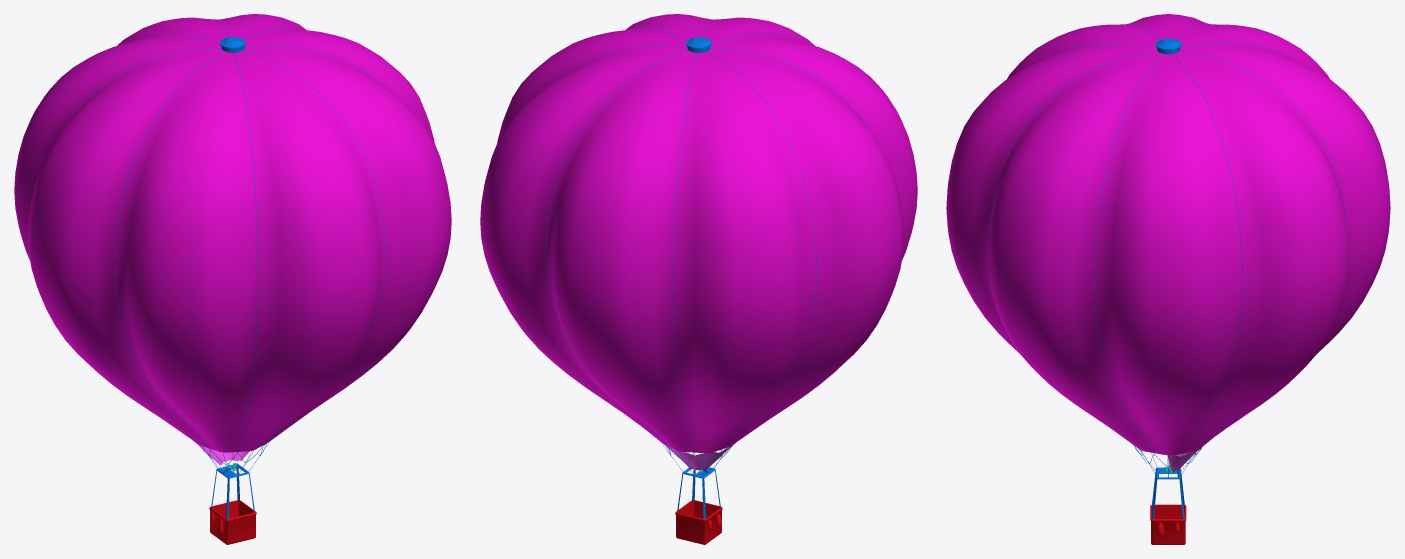
Rendered from planica-air-balloon-tall.fbx.
3 renders of one model, left to right at view 1: azimuth 30°, elevation 25°; view 2: azimuth 150°, elevation 25°; view 3: azimuth 270°, elevation 25°, orthographic.
Visible parts, largest first — view 1: hot_air_baloon_4; view 2: hot_air_baloon_4; view 3: hot_air_baloon_4.
Boxes of the visible parts, <box> form: hot_air_baloon_4: <box>14,14,451,544</box>; hot_air_baloon_4: <box>480,14,917,544</box>; hot_air_baloon_4: <box>946,14,1390,544</box>.
Bounding box in the file's own units: 5339 × 6589 × 5338.
